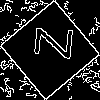Z: (25, 25, 73, 60)
